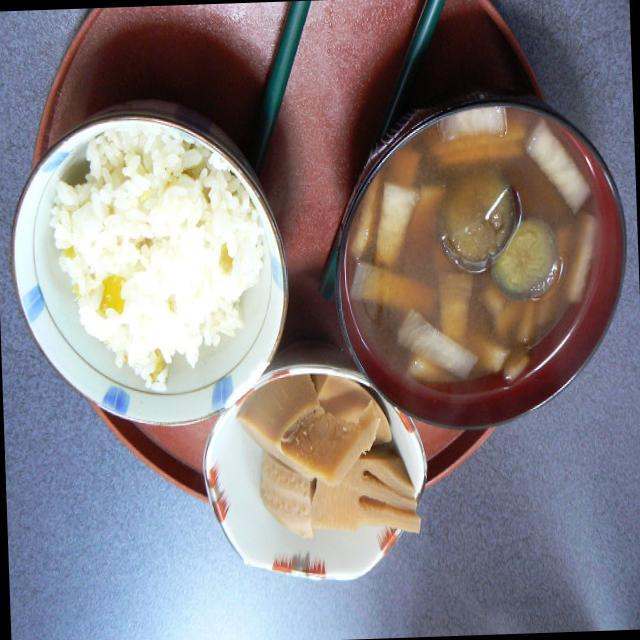Rice: (50, 121, 272, 406)
